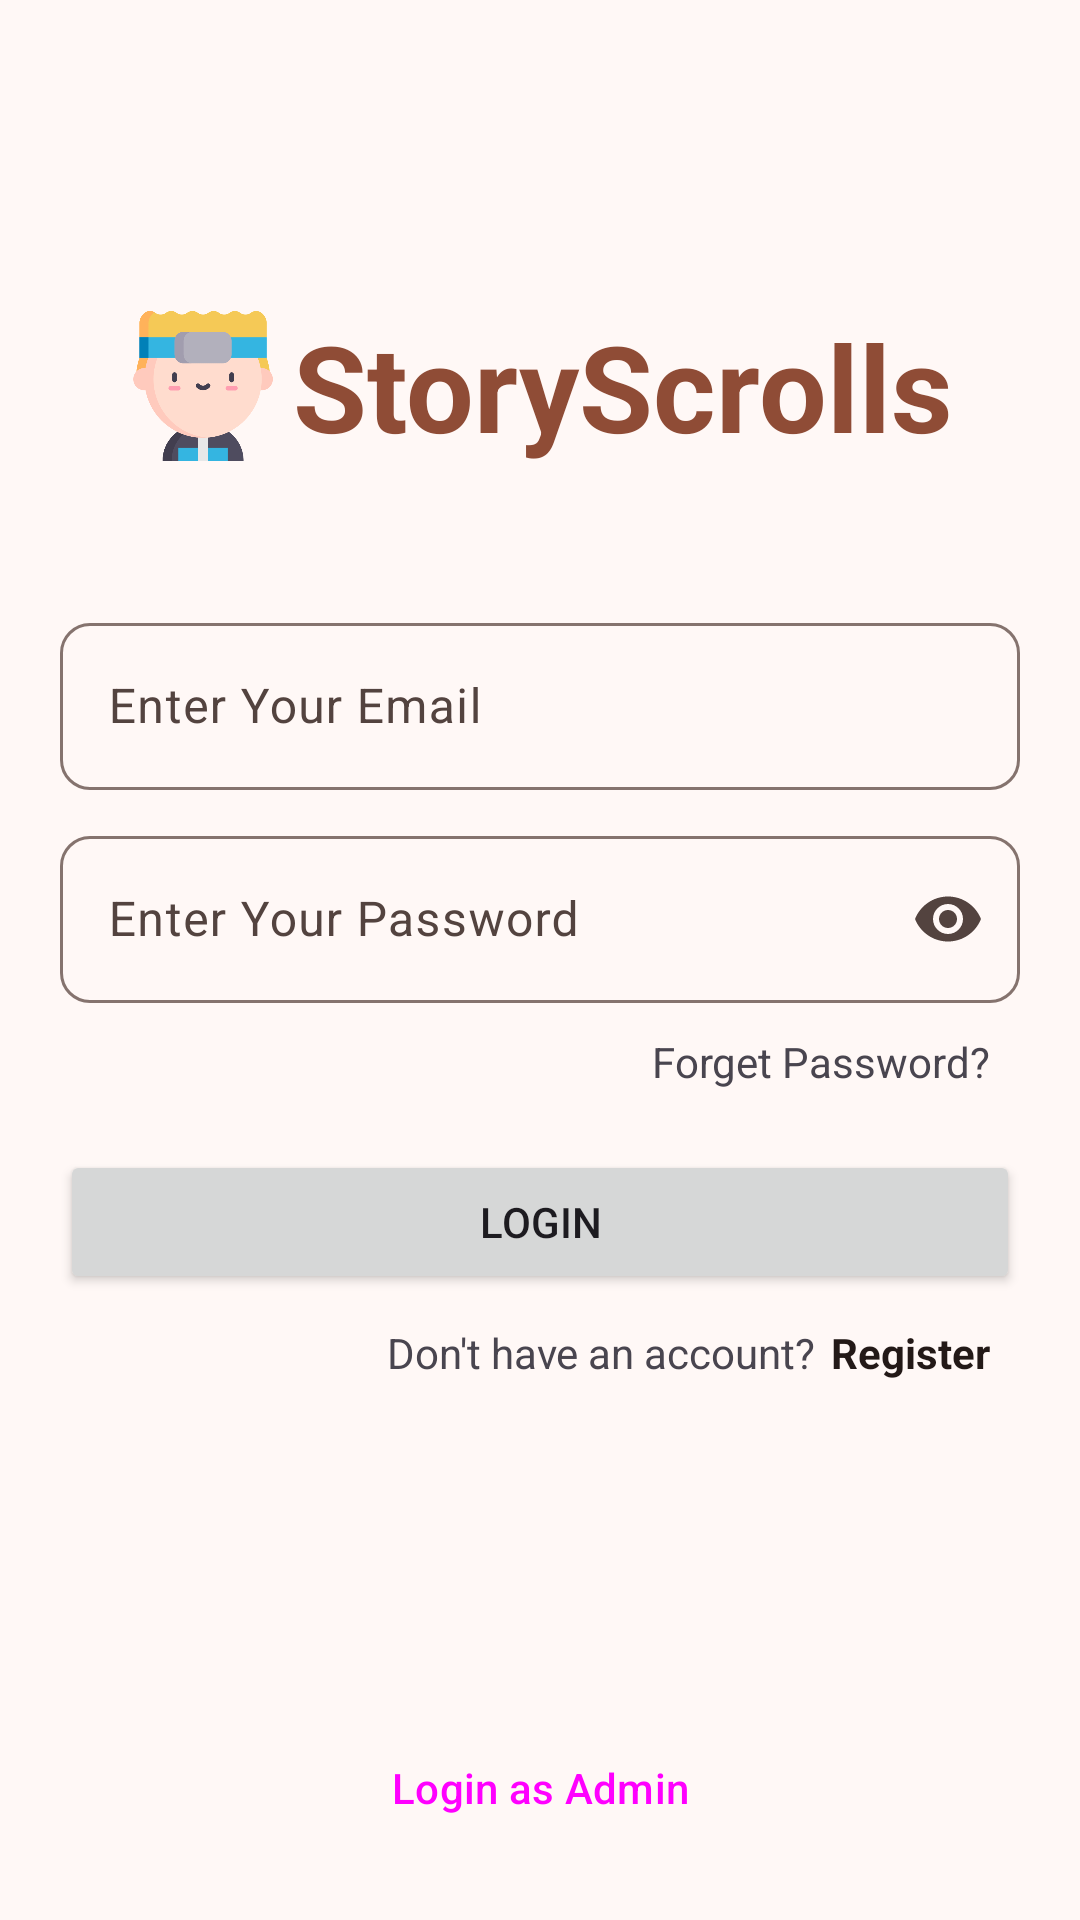

Where icons sit on this 1080x1920 app screen, as (x1=x1, y1=y1, x2=x2, y2=y2):
otaku: (x1=133, y1=311, x2=273, y2=461)
